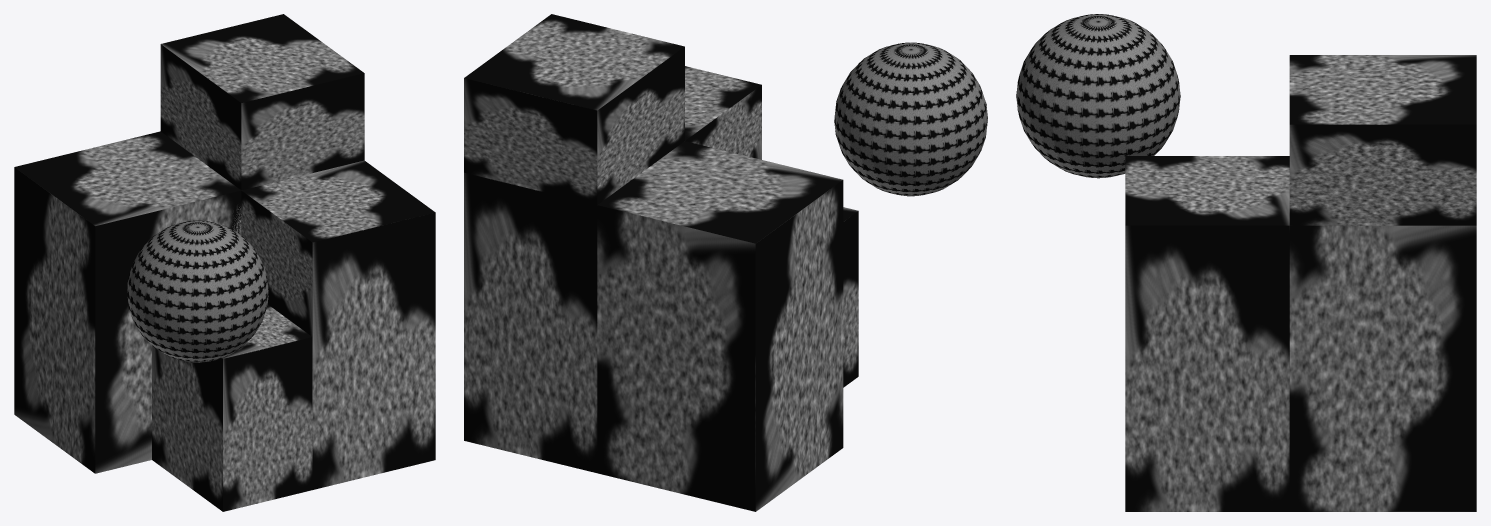
Rendered from blocks2_Scene.obj.
The picture shows the model from 3 angles, left to right: view 1: azimuth 30°, elevation 25°; view 2: azimuth 150°, elevation 25°; view 3: azimuth 270°, elevation 25°; orthographic projection. The views are drawn at different scales.
Parts seen in each view (by area): view 1: Cube; view 2: Cube; view 3: Cube.
Part boxes in pixels (x1=…): Cube: x1=14, y1=14, x2=435, y2=511; Cube: x1=464, y1=14, x2=987, y2=511; Cube: x1=1016, y1=14, x2=1476, y2=511.
Size of the model in its own units: 5.05 by 5.2 by 5.6.
